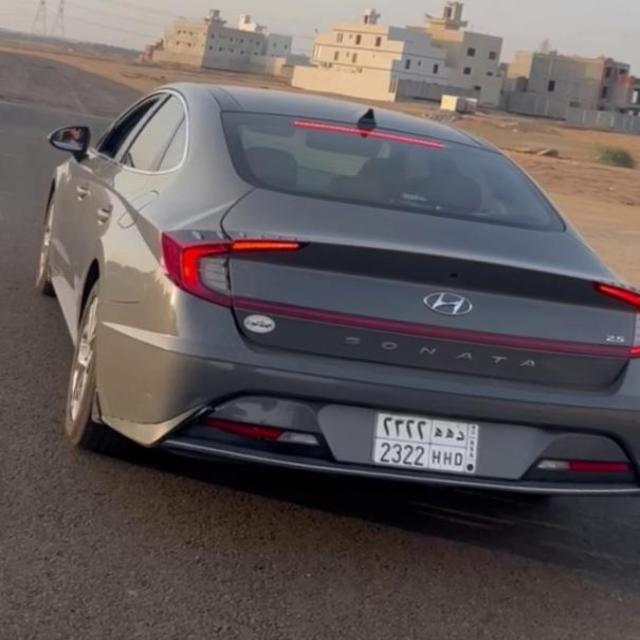Car-plate: (365, 392, 494, 486)
